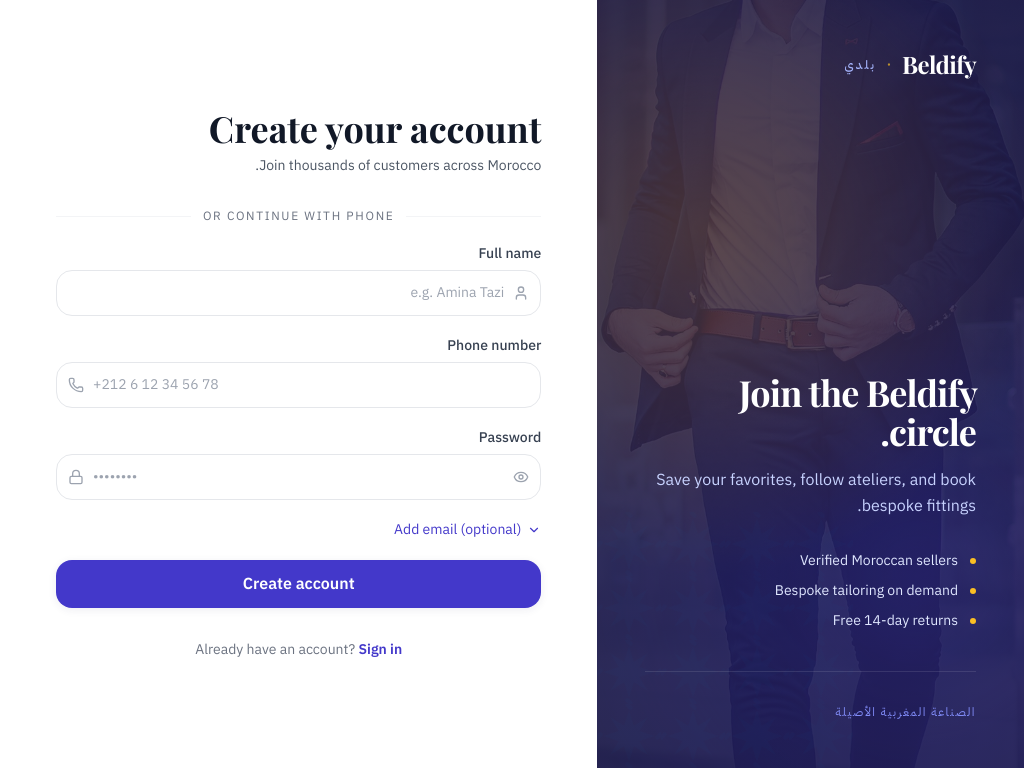
Test: RegisterPage (phone-first) — client-side validation › shows an inline error for full_name_en when left blank on submit
In the field labelled "Phone number": point(299, 385) [56,362,541,408], type "+212612345678"
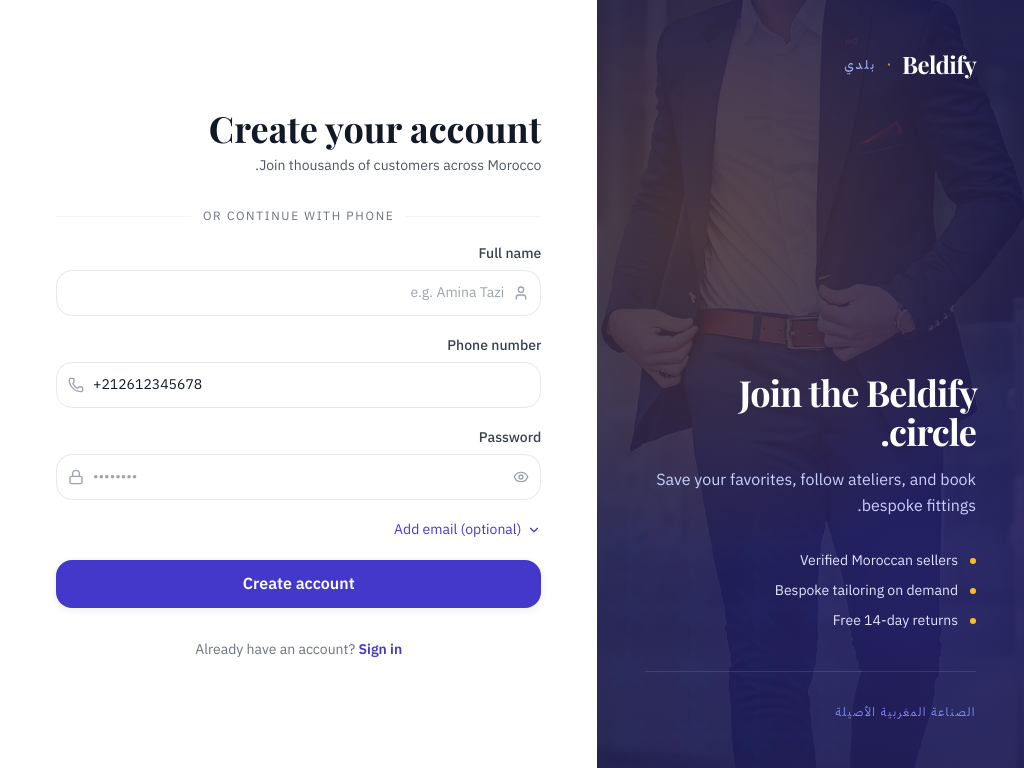
In the password field labelled "Password": point(299, 477) [56,454,541,500], type "Secret123!"
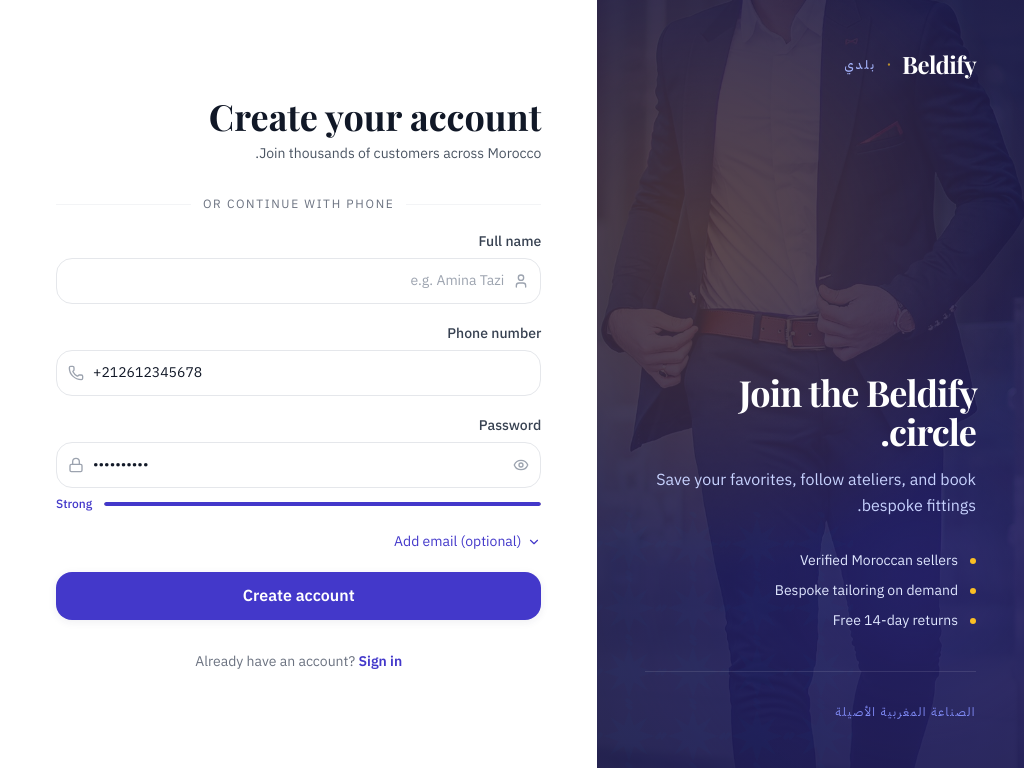
Submit the form "Create account", box [56,232,541,620]
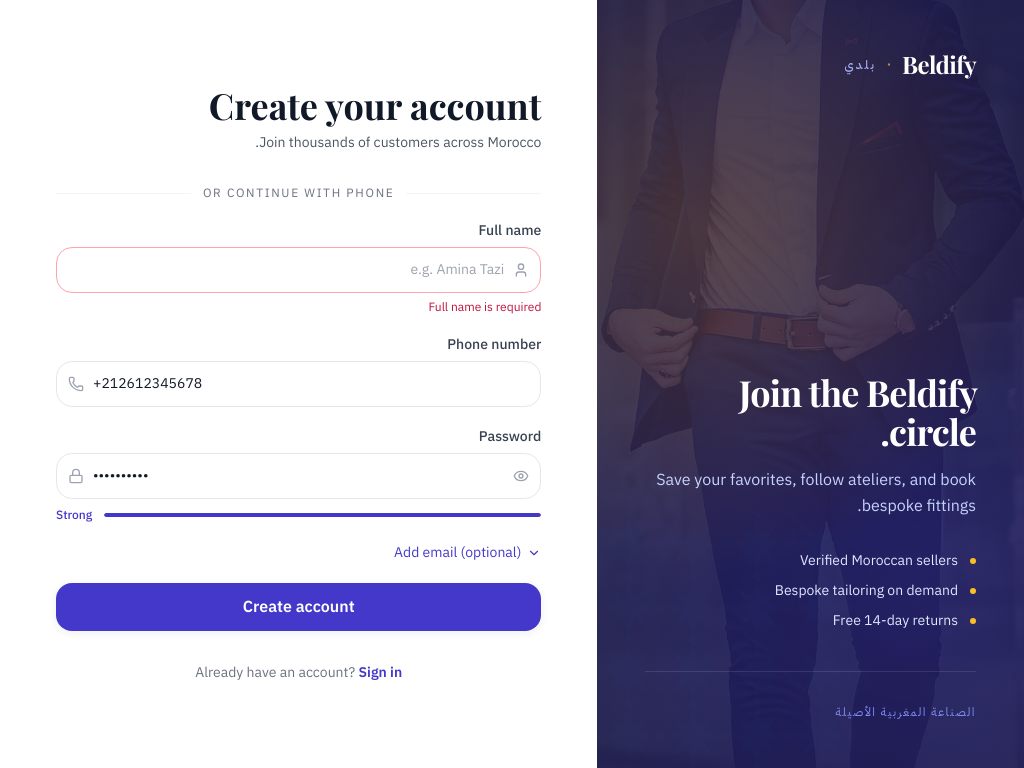
expect the text "Full name is required" is shown: met, box [428,298,541,316]
